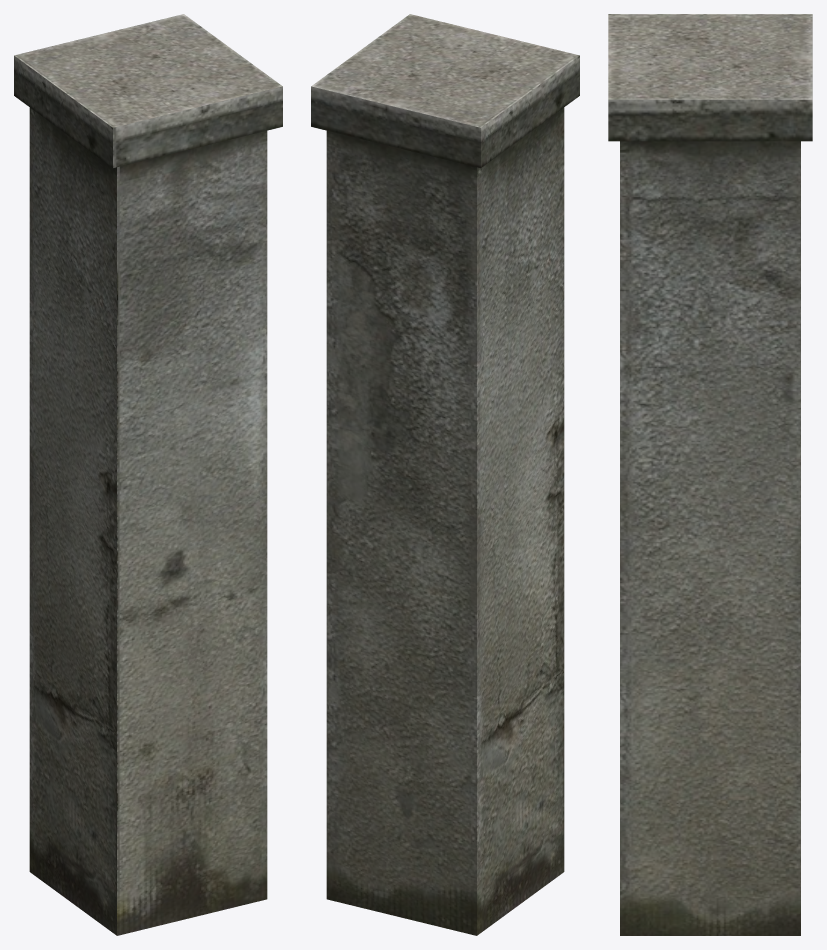
File: Concrete_fence_v1_column (1).001.glb
The picture shows the model from 3 angles, left to right: view 1: azimuth 30°, elevation 25°; view 2: azimuth 150°, elevation 25°; view 3: azimuth 270°, elevation 25°; orthographic projection. The views are drawn at different scales.
Parts seen in each view (by area): view 1: Concrete_fence_v1_column (1).001; view 2: Concrete_fence_v1_column (1).001; view 3: Concrete_fence_v1_column (1).001.
Part boxes in pixels (box(x1,y1,x2,y2)): Concrete_fence_v1_column (1).001: box(14, 14, 282, 935); Concrete_fence_v1_column (1).001: box(311, 14, 579, 935); Concrete_fence_v1_column (1).001: box(608, 14, 812, 935).
Bounding box in the file's own units: 0.7198 × 3.3 × 0.7263.
Materials: 1 (1 with a texture image).
